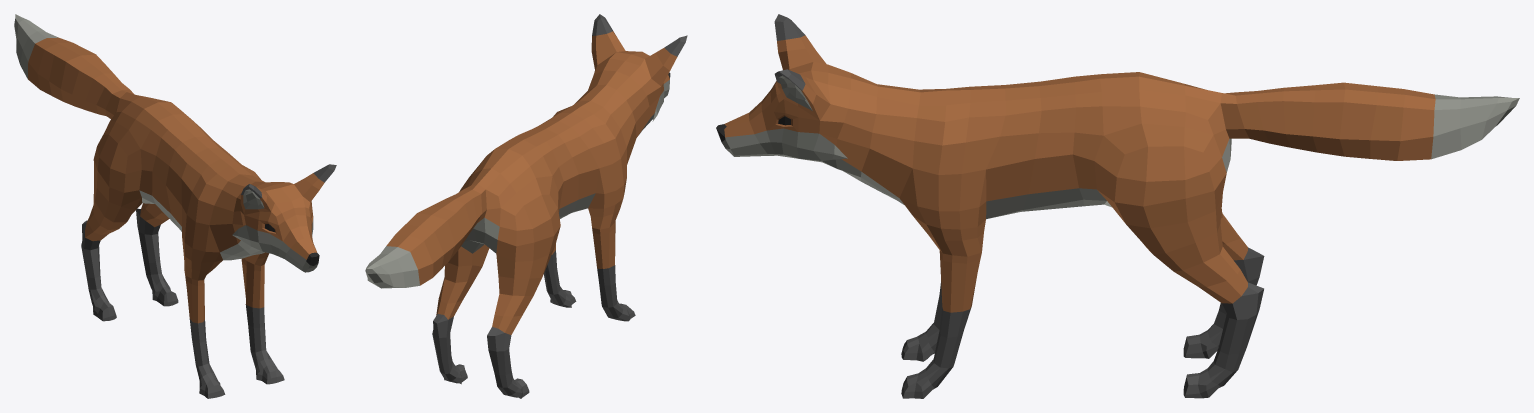
File: cc0-fox.glb
3 renders of one model, left to right at view 1: azimuth 30°, elevation 25°; view 2: azimuth 150°, elevation 25°; view 3: azimuth 270°, elevation 25°, orthographic. The views are drawn at different scales.
Parts seen in each view (by area): view 1: Fox; view 2: Fox; view 3: Fox.
Part boxes in pixels (x1,y1,x2,y2): Fox: (14,14,336,398); Fox: (365,14,687,398); Fox: (716,14,1519,398).
Bounding box in the file's own units: 1.06 × 2.68 × 5.88.
